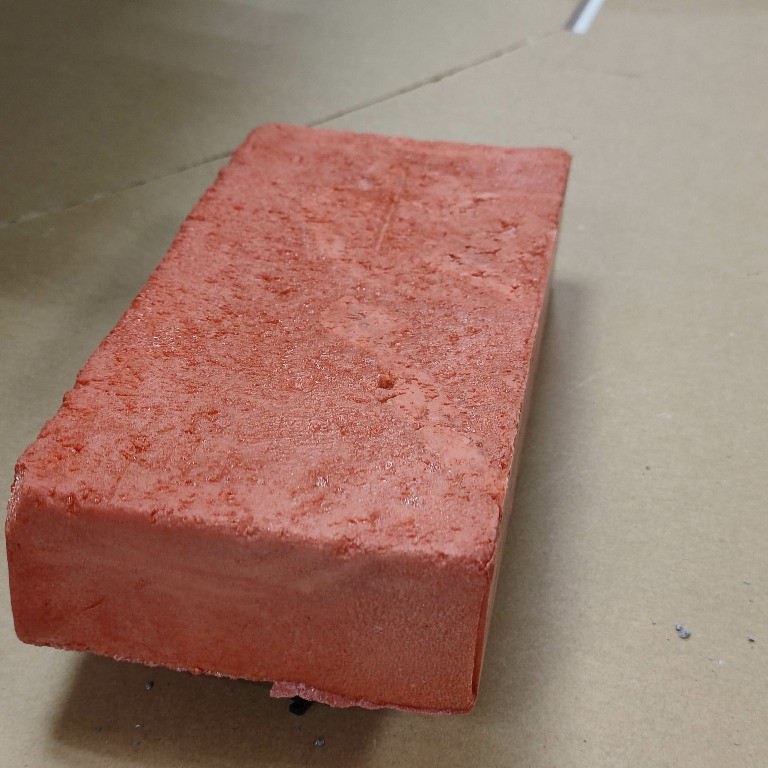brick: (1, 118, 575, 719)
